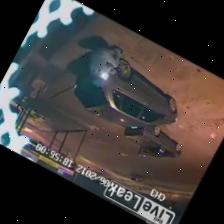person: (89, 46, 122, 74)
